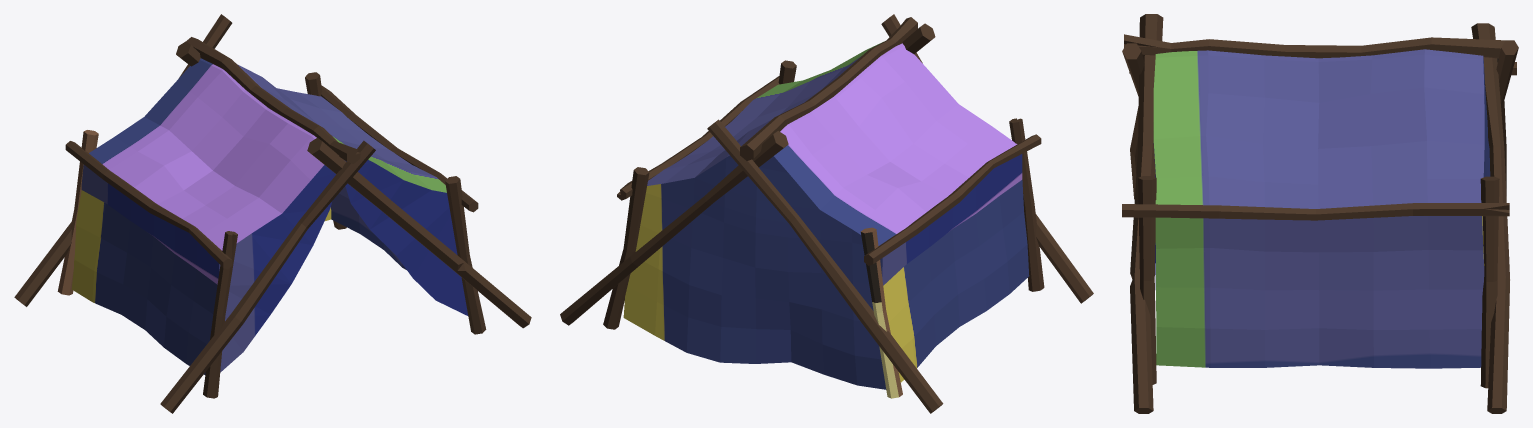
The model's file is Tent_4.fbx.
The picture shows the model from 3 angles, left to right: view 1: azimuth 30°, elevation 25°; view 2: azimuth 150°, elevation 25°; view 3: azimuth 270°, elevation 25°; orthographic projection. The views are drawn at different scales.
Parts seen in each view (by area): view 1: Tent_4; view 2: Tent_4; view 3: Tent_4.
Part boxes in pixels (x1,y1,x2,y2): Tent_4: [14, 14, 531, 413]; Tent_4: [560, 14, 1093, 413]; Tent_4: [1122, 14, 1518, 413].
Bounding box in the file's own units: 238 × 147 × 184.
